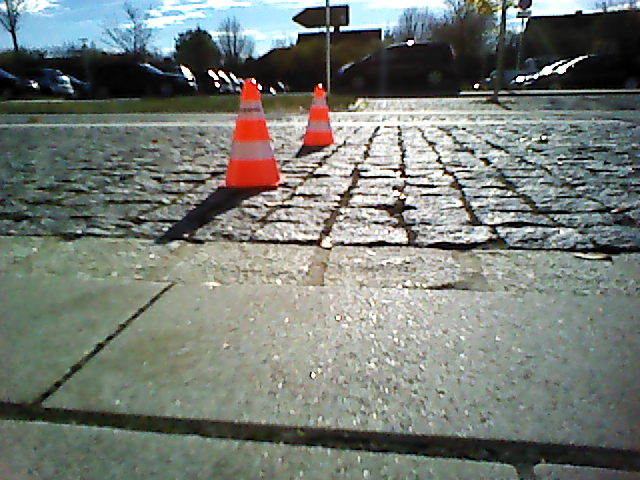orangeconesmall: (222, 78, 281, 188), (303, 84, 334, 146)
